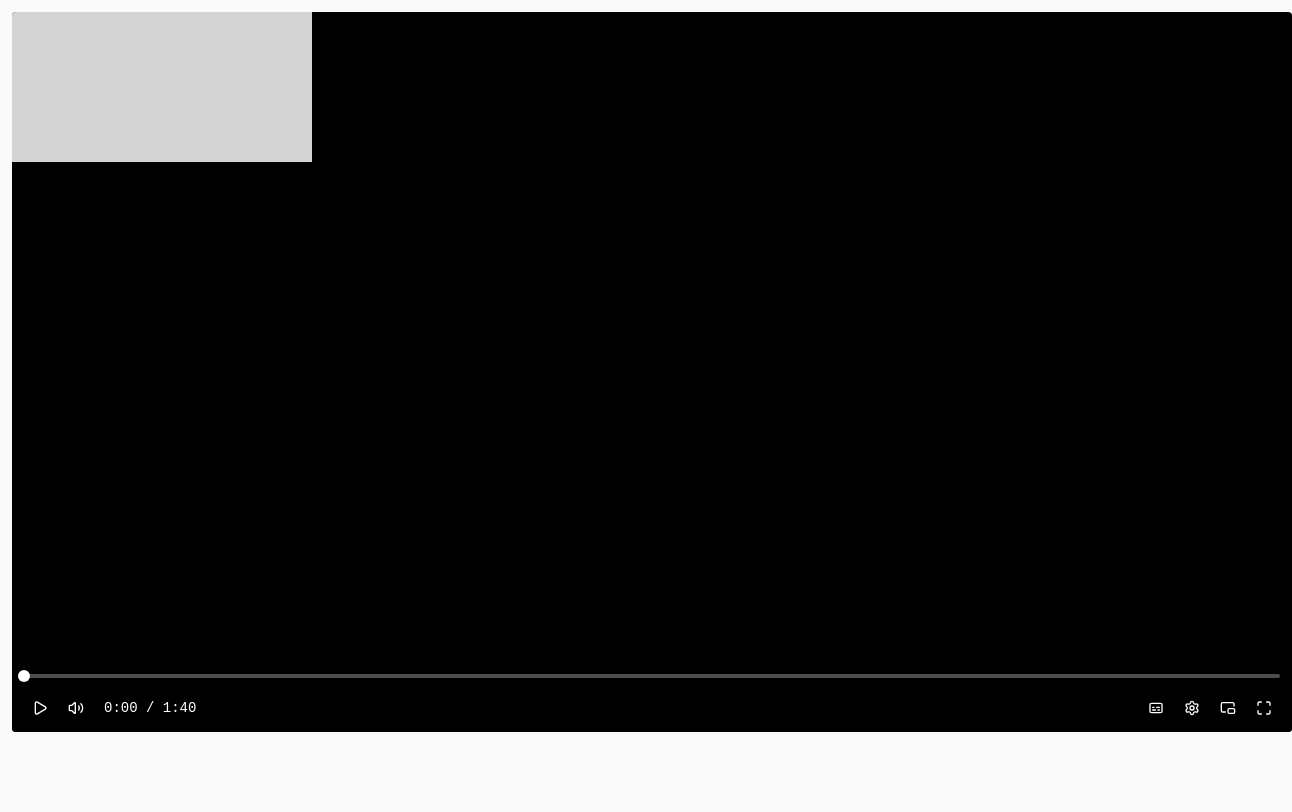
Test case: 再生元固有の行は渡された事実から出す › 音声の選択肢を渡したときだけ音声行を出す
Click the button named "再生設定" at (1192, 708), box [1176,692,1208,724]
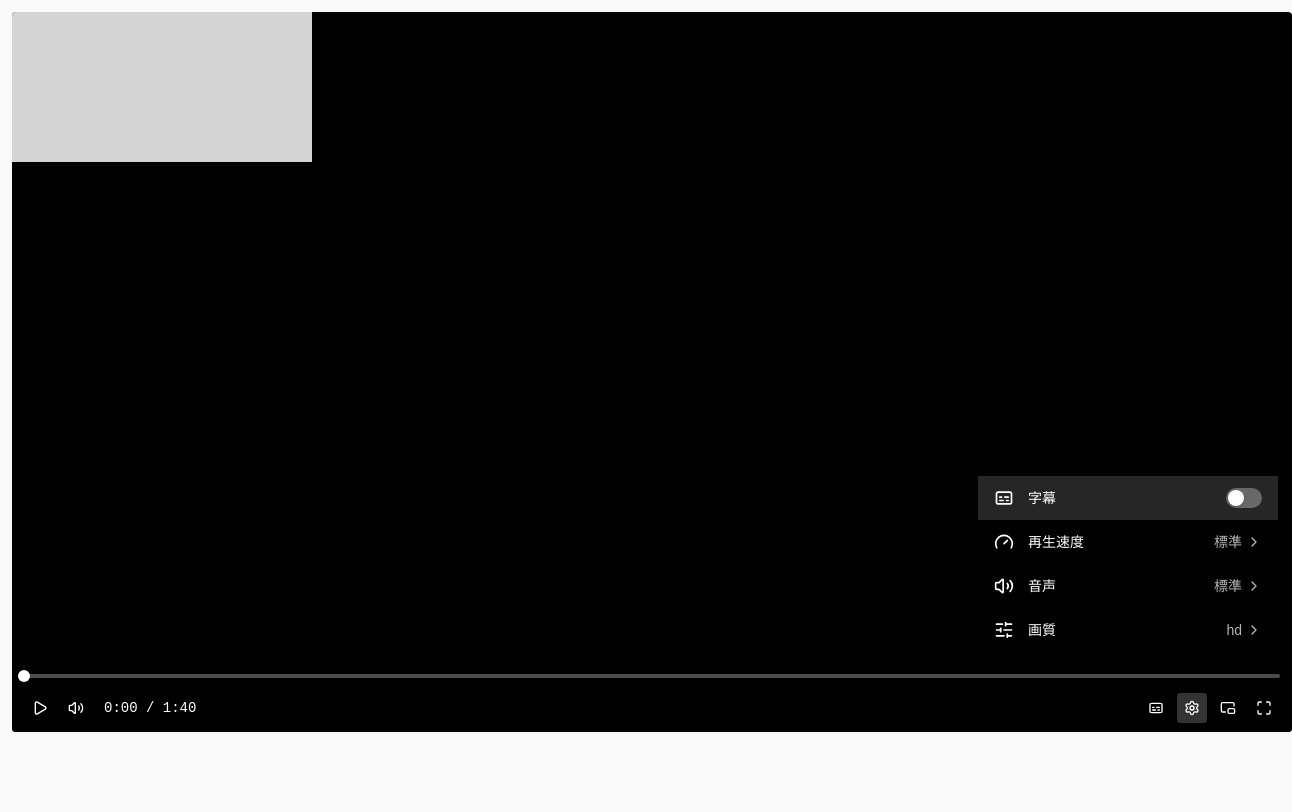
Click the menu item "音声 標準" at (1004, 586), box [978,564,1278,608]
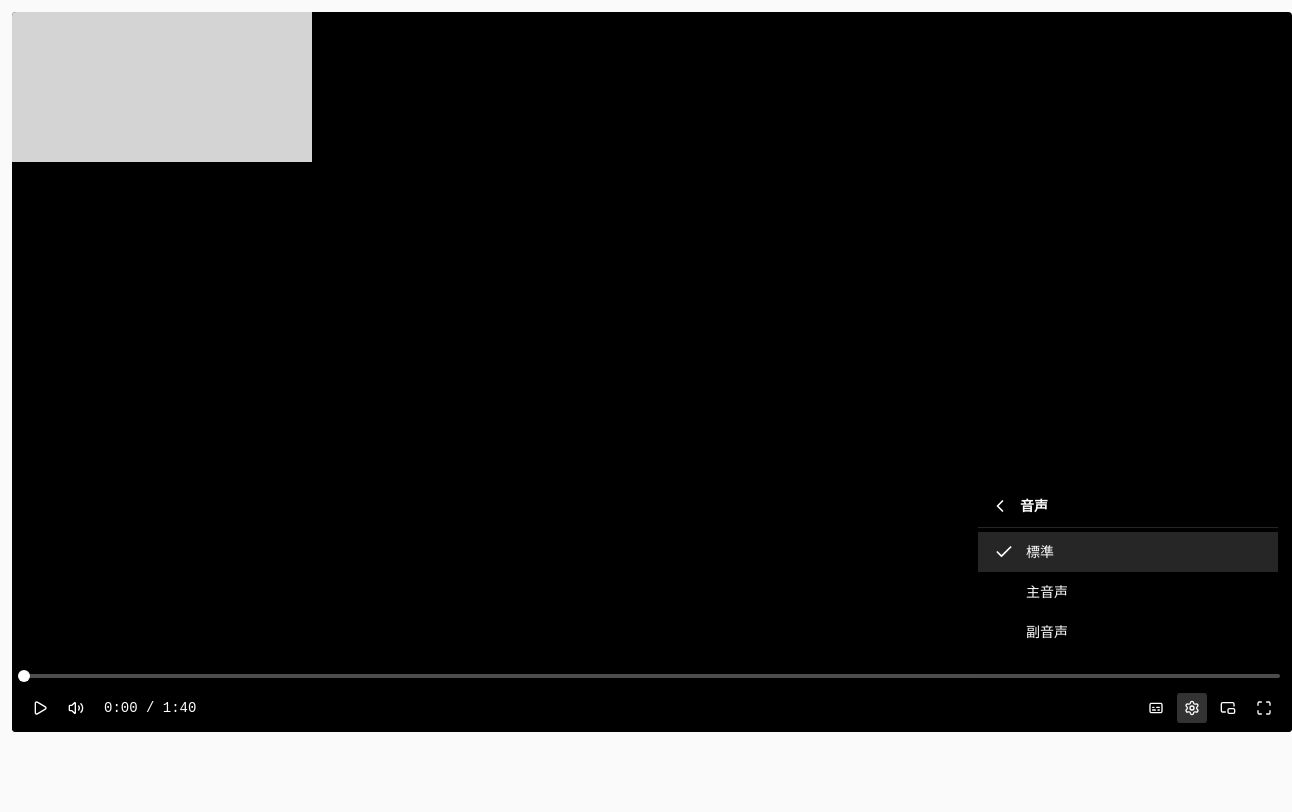
Check: the menu item "主音声" is shown, box [978,572,1278,612]
Check: the menu item "副音声" is shown, box [978,612,1278,652]
